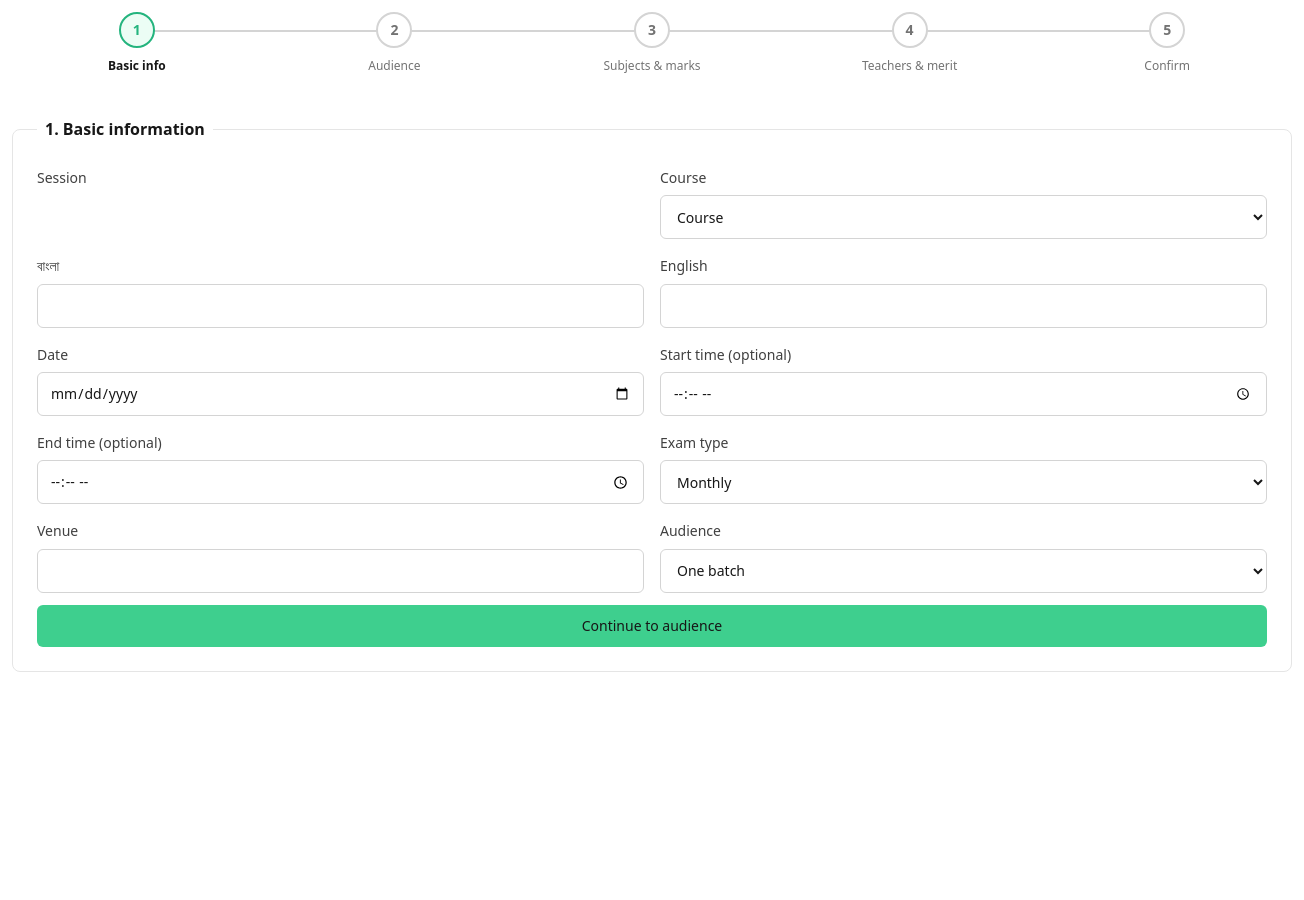
Test: ExamCreateWizard › does not preview a single-batch audience until one batch is selected
Type "পরীক্ষা" into the field labelled "বাংলা". click: [340, 306]
box: [37,284,644,328]
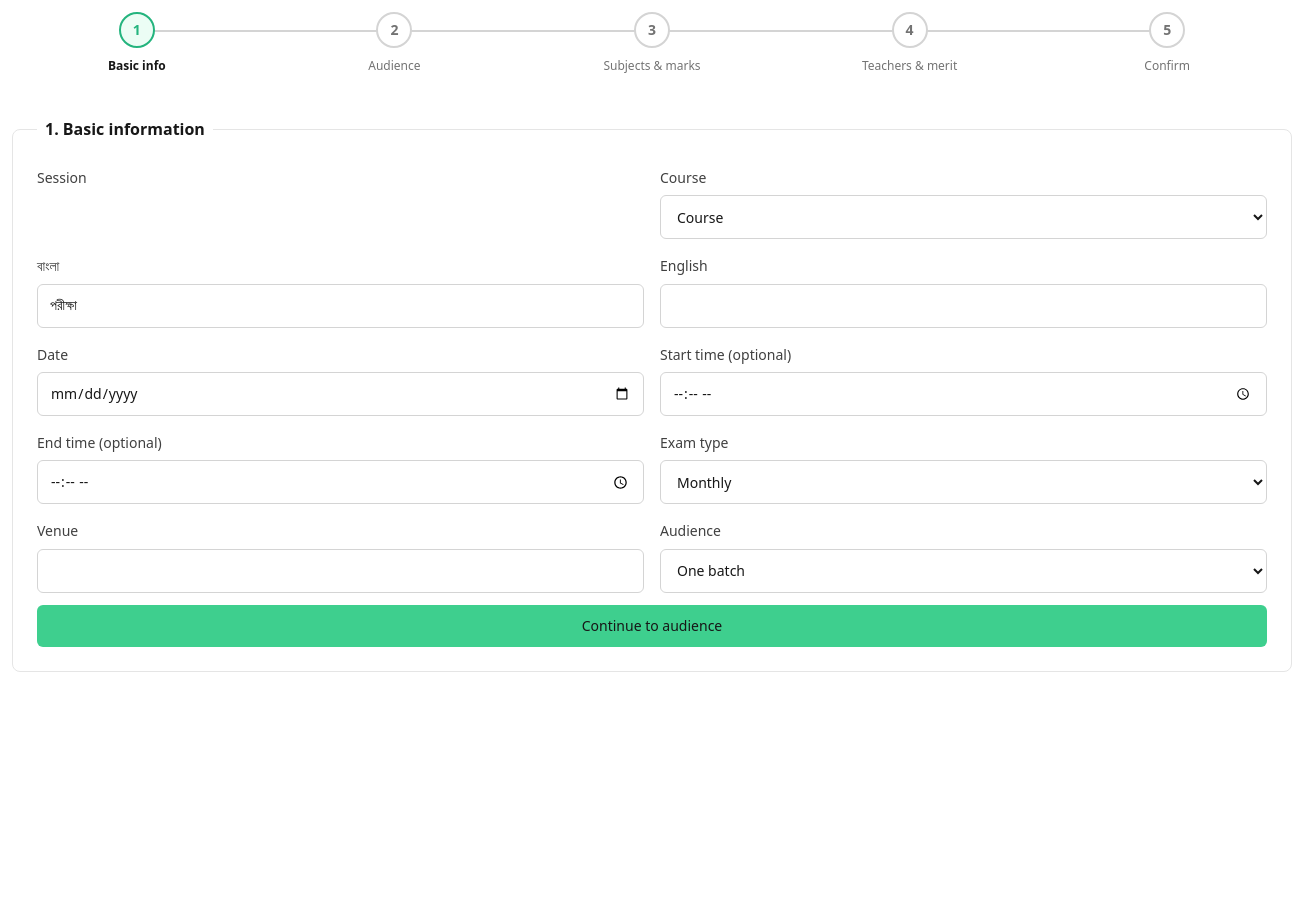
Type "Exam" into the field labelled "English". click: [964, 306]
box: [660,284,1267,328]
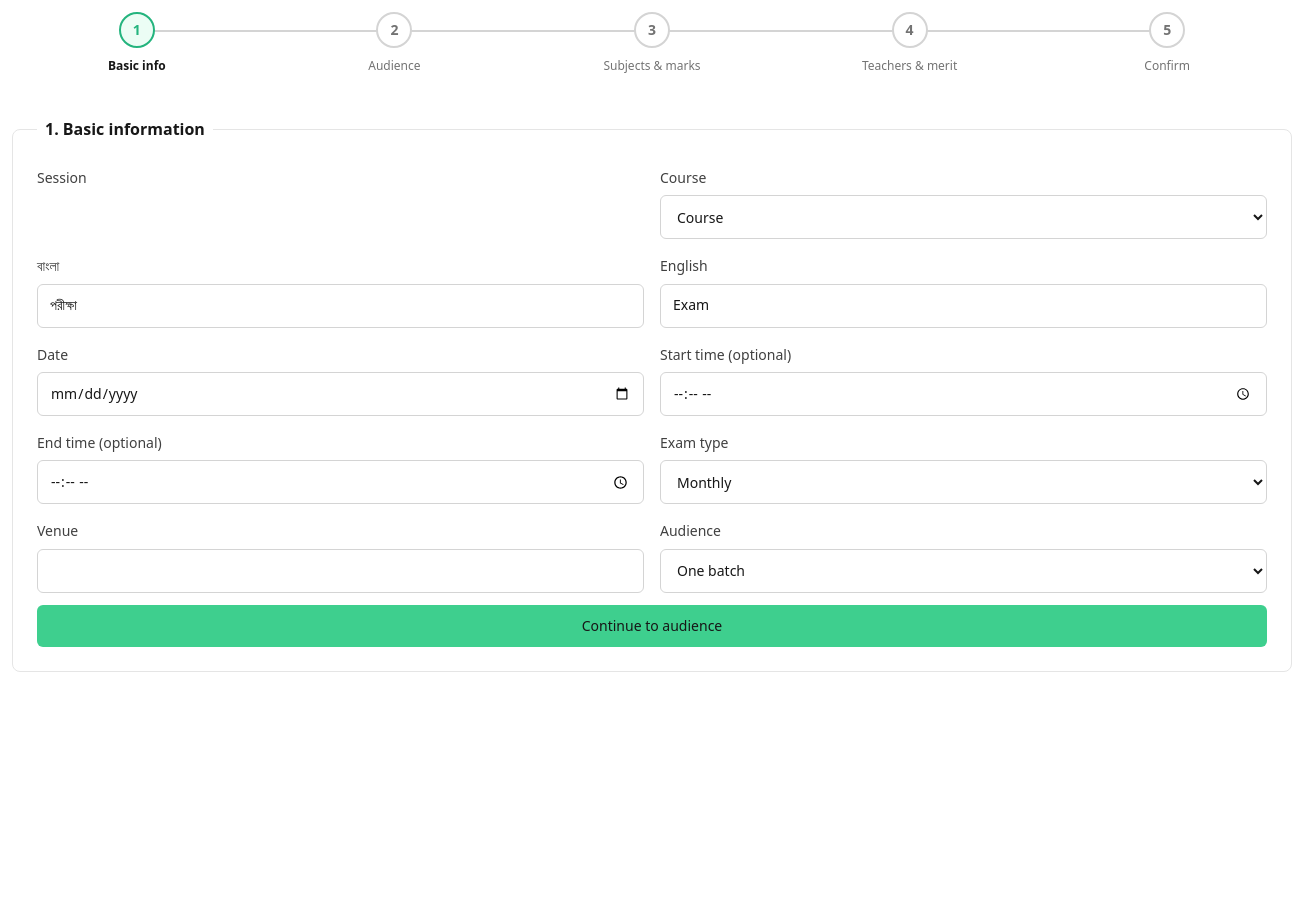
Type "2026-07-13" into the date field labelled "Date". click: [340, 394]
box: [37,372,644,416]
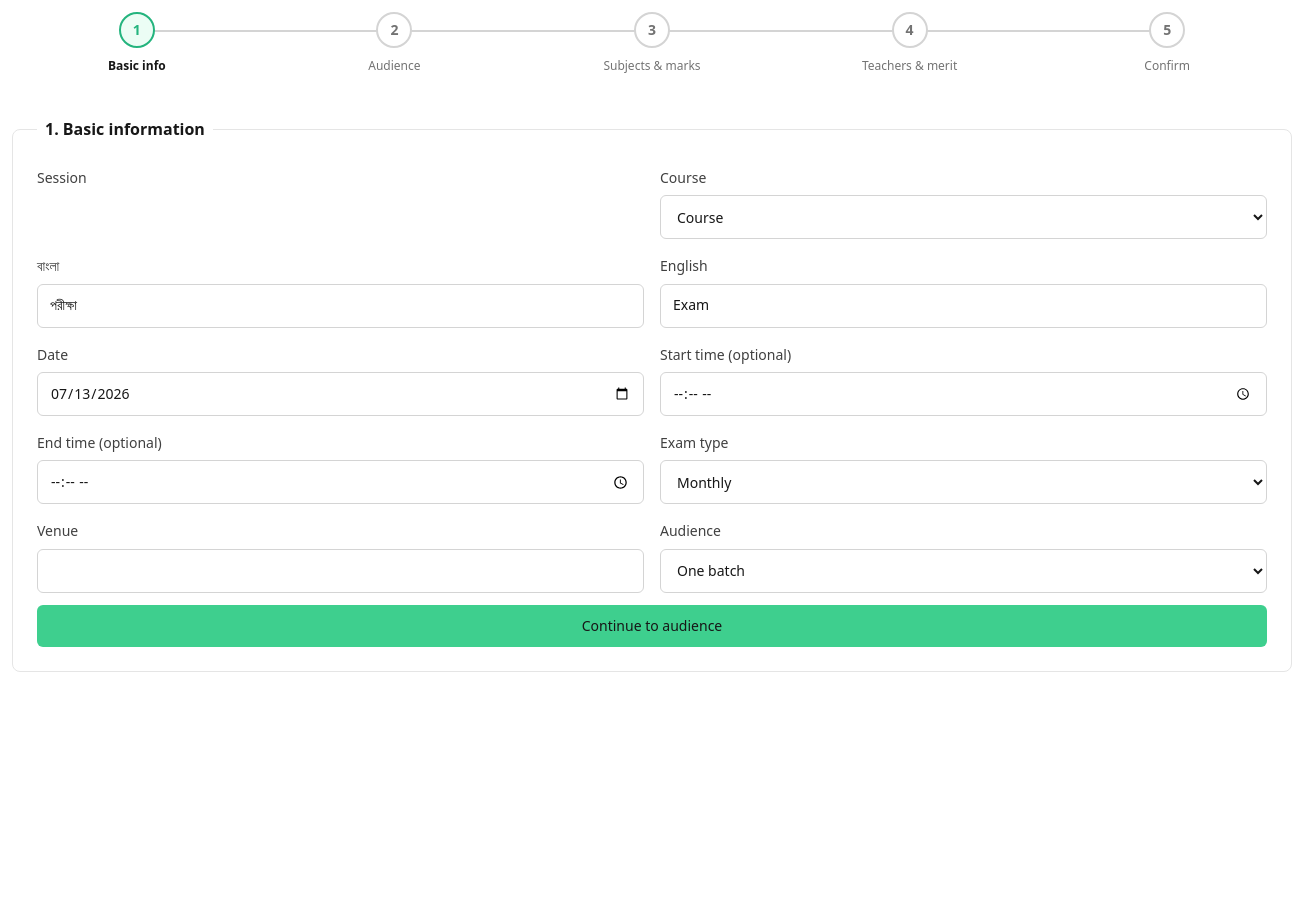
Click the button "Continue to audience". click: [652, 626]
box: [37,605,1267,647]
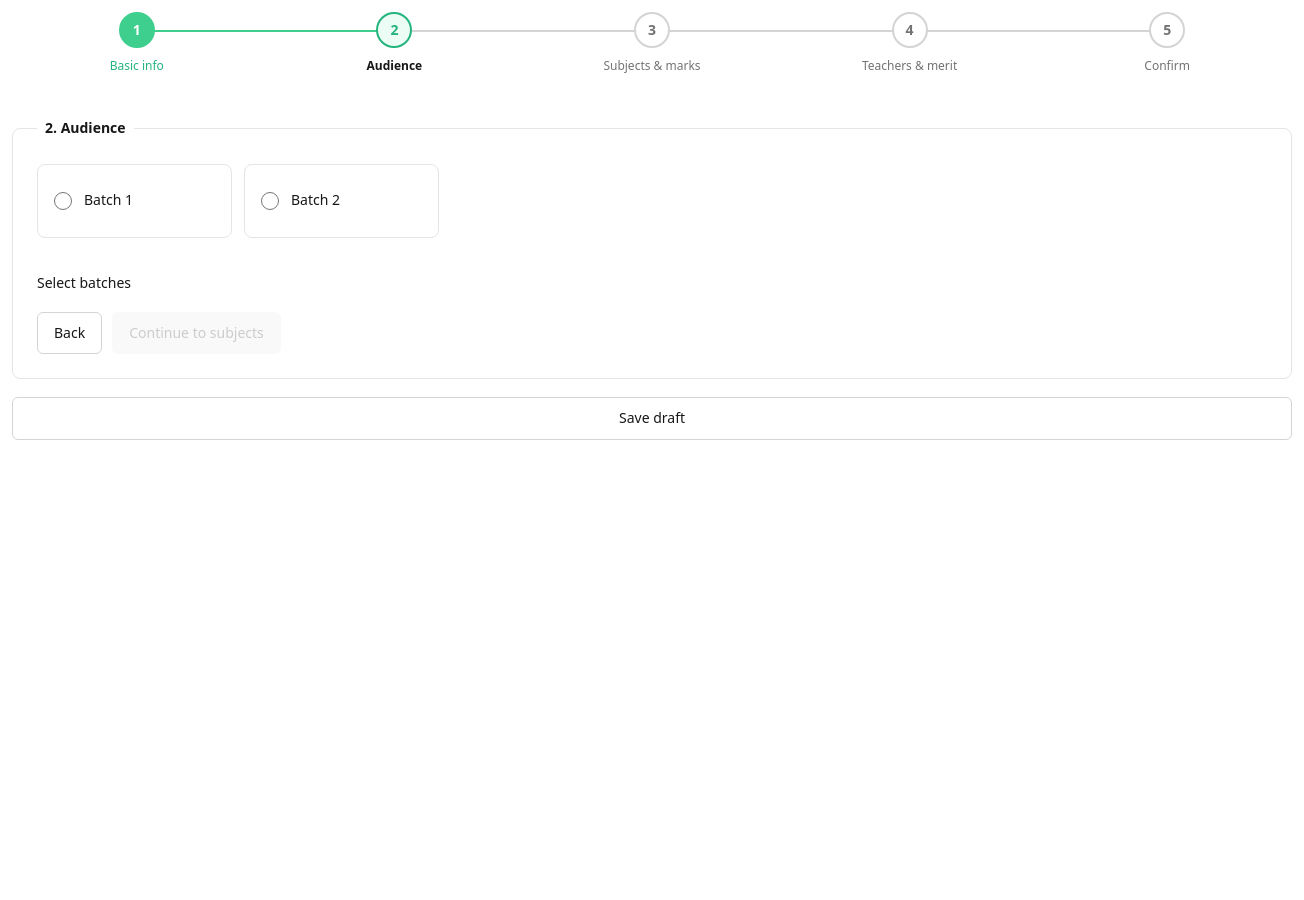
Check: the text "2. Audience" is shown, box [45,118,126,137]
Click the radio button labelled "Batch 1". click: [63, 201]
box: [54,179,72,223]
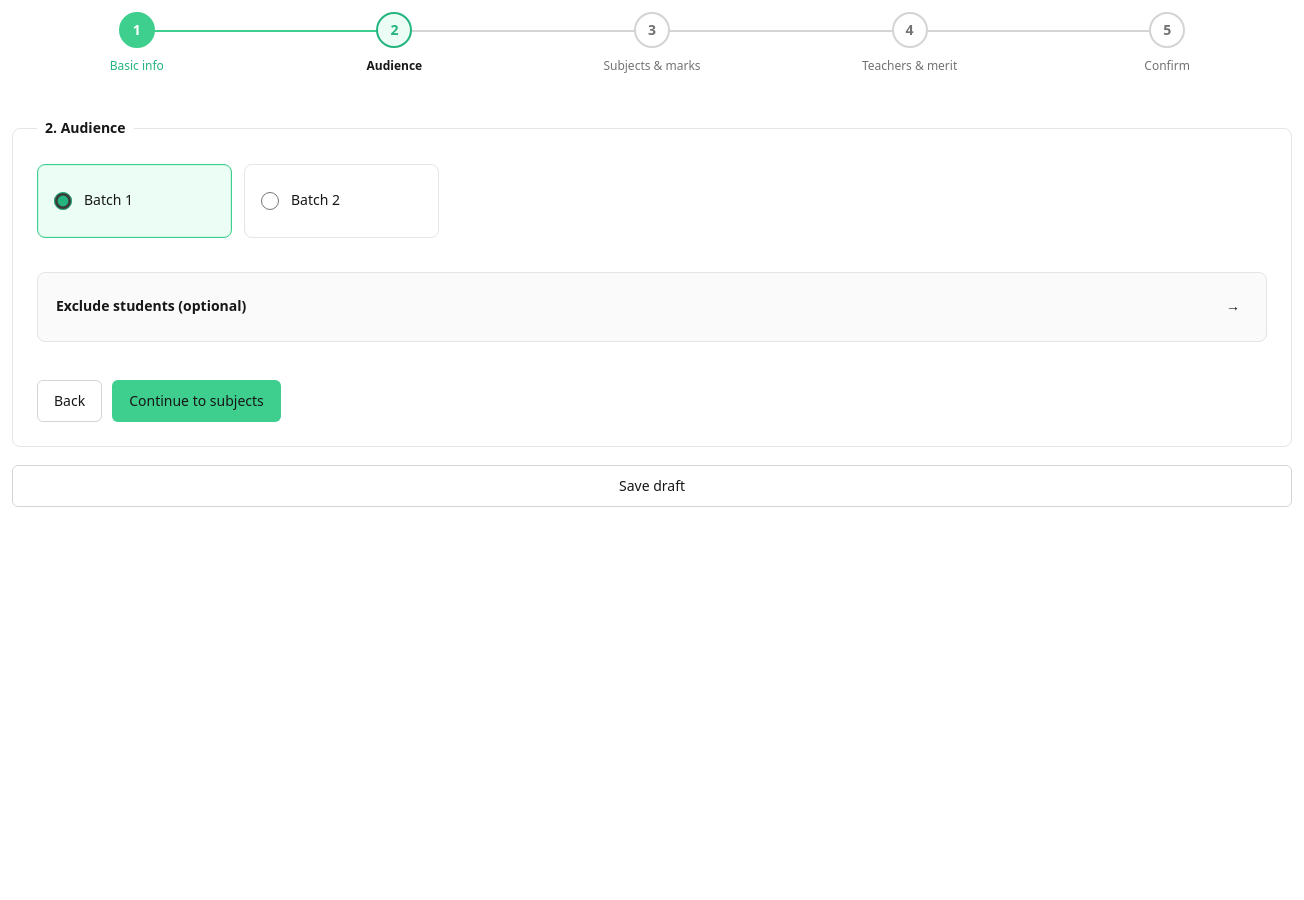
Click the heading "Exclude students (optional)". click: [151, 306]
box: [56,296,246,315]
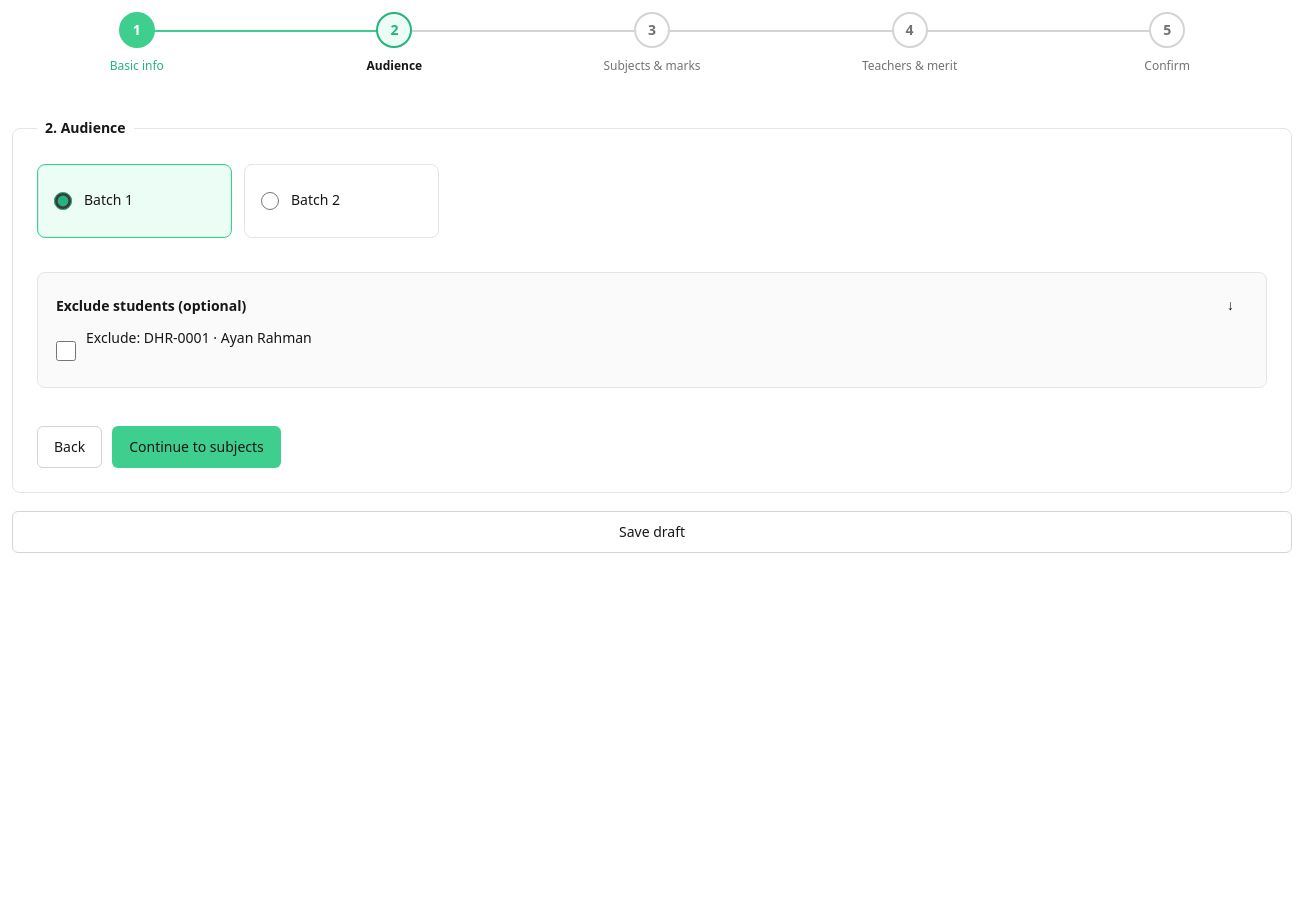
Check: the checkbox labelled "Exclude: DHR-0001 · Ayan Rahman" is not checked, box [56,329,76,373]
